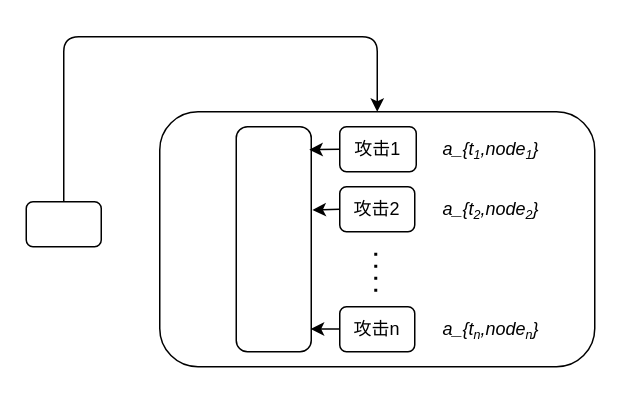
Some shapes in this 621 by 393 pixel diagram are drawn without their labels. Each missing label, with the centre of its shape:
网络: point (273, 238)
防御: point (63, 223)
